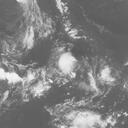cyclone: (55, 50, 80, 79)
